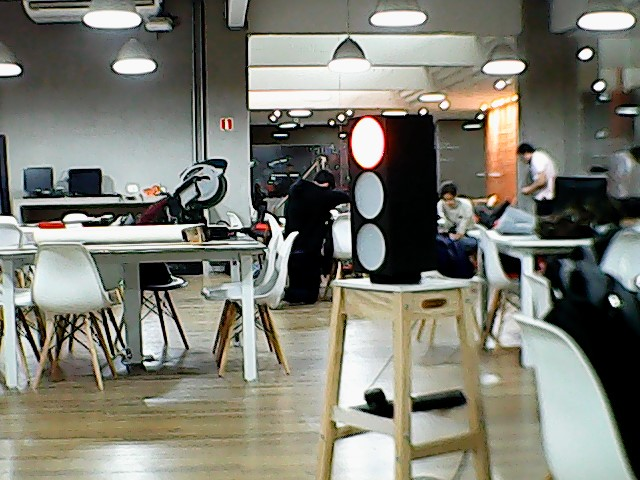vermelho: (345, 107, 441, 278)
